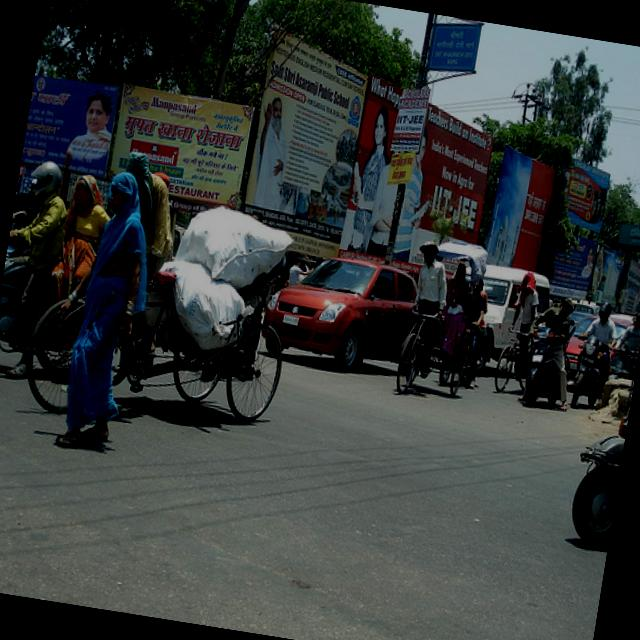Vehicle: (257, 245, 423, 380), (567, 308, 640, 545), (438, 258, 554, 385), (0, 225, 94, 381), (515, 314, 577, 416), (564, 334, 616, 414), (561, 310, 597, 382), (606, 311, 635, 340)
